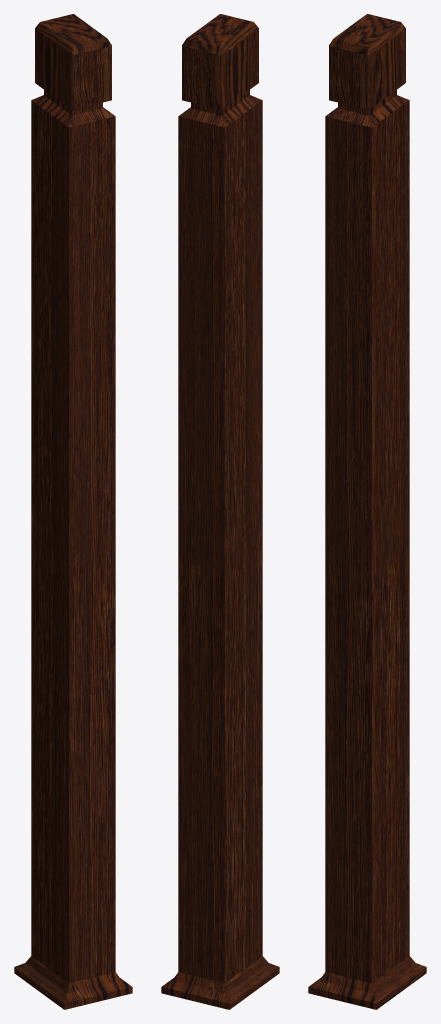
Rendered from fence_baluster.fbx.
3 renders of one model, left to right at view 1: azimuth 30°, elevation 25°; view 2: azimuth 150°, elevation 25°; view 3: azimuth 330°, elevation 25°, orthographic.
Parts seen in each view (by area): view 1: fence_baluster; view 2: fence_baluster; view 3: fence_baluster.
Part boxes in pixels (x1,y1,x2,y2): fence_baluster: [14, 14, 132, 1009]; fence_baluster: [161, 14, 279, 1009]; fence_baluster: [308, 14, 426, 1009].
Size of the model in its own units: 11 by 147 by 14.
